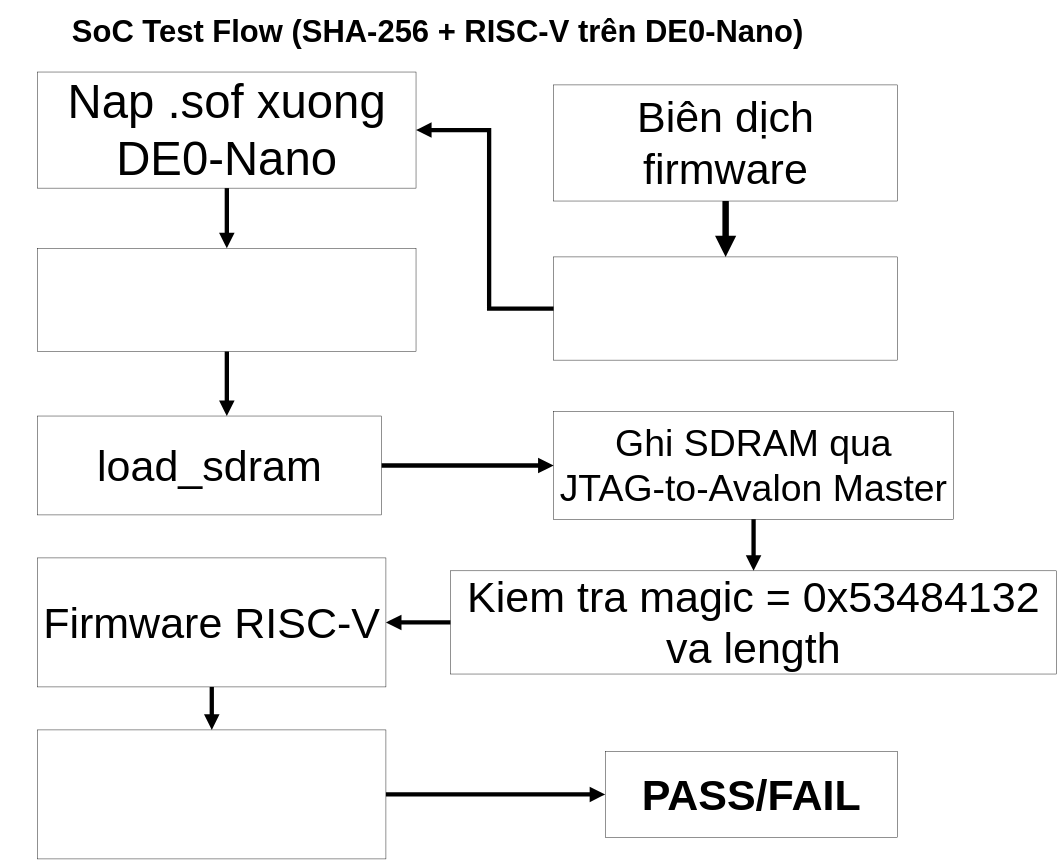
The diagram is 1064 pixels wide and 866 high, and some of its shapes have lost their labels. The shapes that lost their labels are listed below. From the top down, each one's centre as x and y in pixels, then its label:
(x=226, y=300): Tao du lieu message.txt
(x=725, y=308): Start Compilation
(x=211, y=794): nios2-terminal
